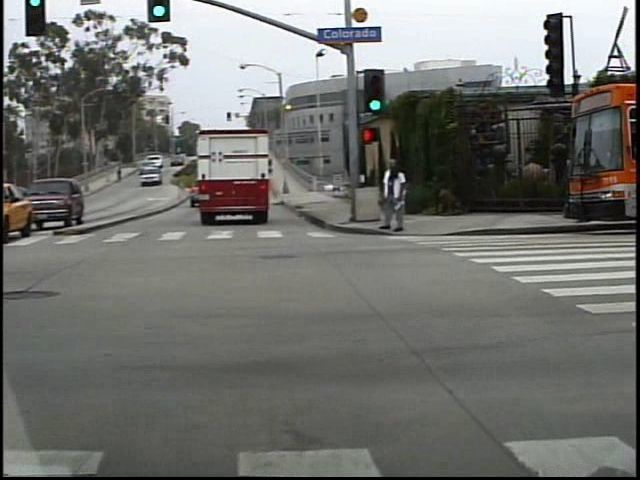person: (383, 157, 412, 237)
